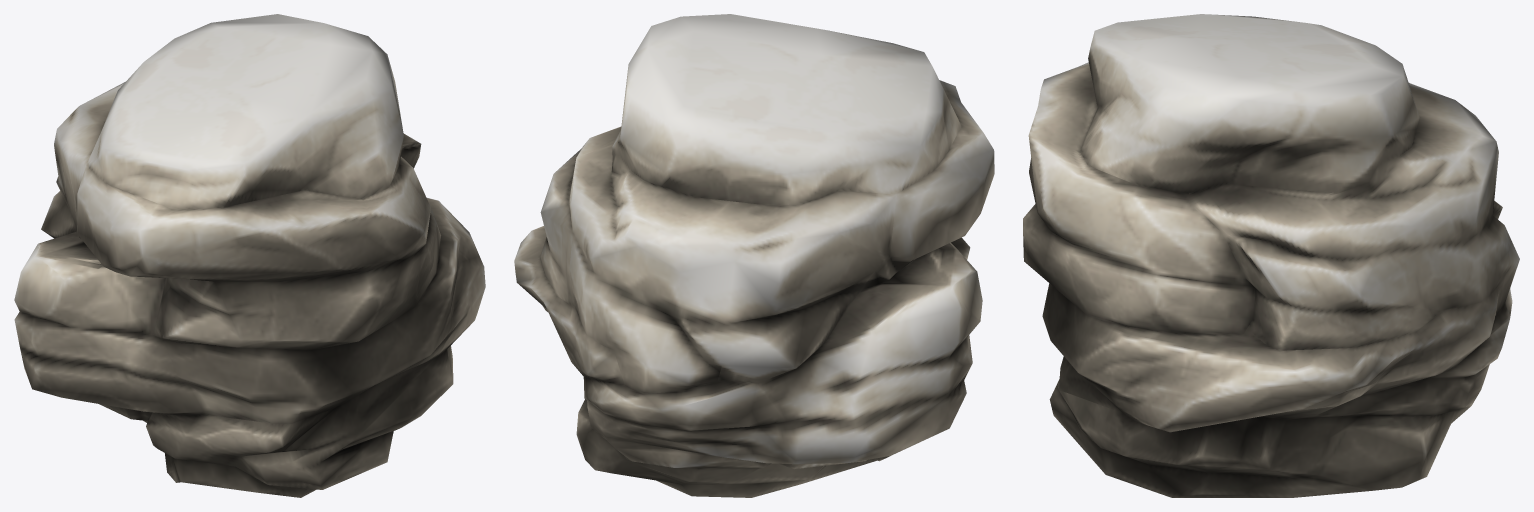
The model's file is rock_large_01.glb.
3 renders of one model, left to right at view 1: azimuth 30°, elevation 25°; view 2: azimuth 150°, elevation 25°; view 3: azimuth 270°, elevation 25°, orthographic. The views are drawn at different scales.
Visible parts, largest first — view 1: rock; view 2: rock; view 3: rock.
Part boxes in pixels (x1,y1,x2,y2): rock: [14, 14, 485, 497]; rock: [514, 14, 994, 497]; rock: [1023, 14, 1519, 497].
Size of the model in its own units: 3.5 by 3.07 by 3.27.
Materials: 1 (1 with a texture image).
